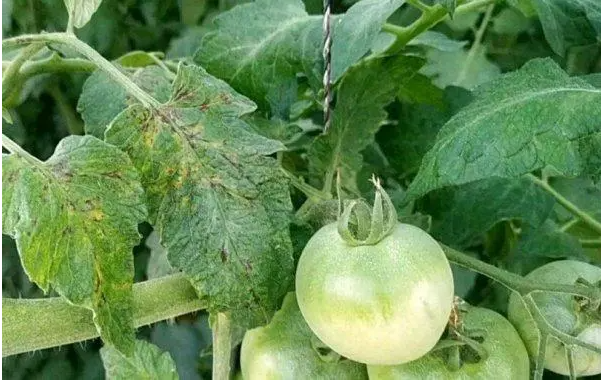thrips: (101, 62, 295, 330), (2, 135, 144, 355), (399, 56, 601, 202)
